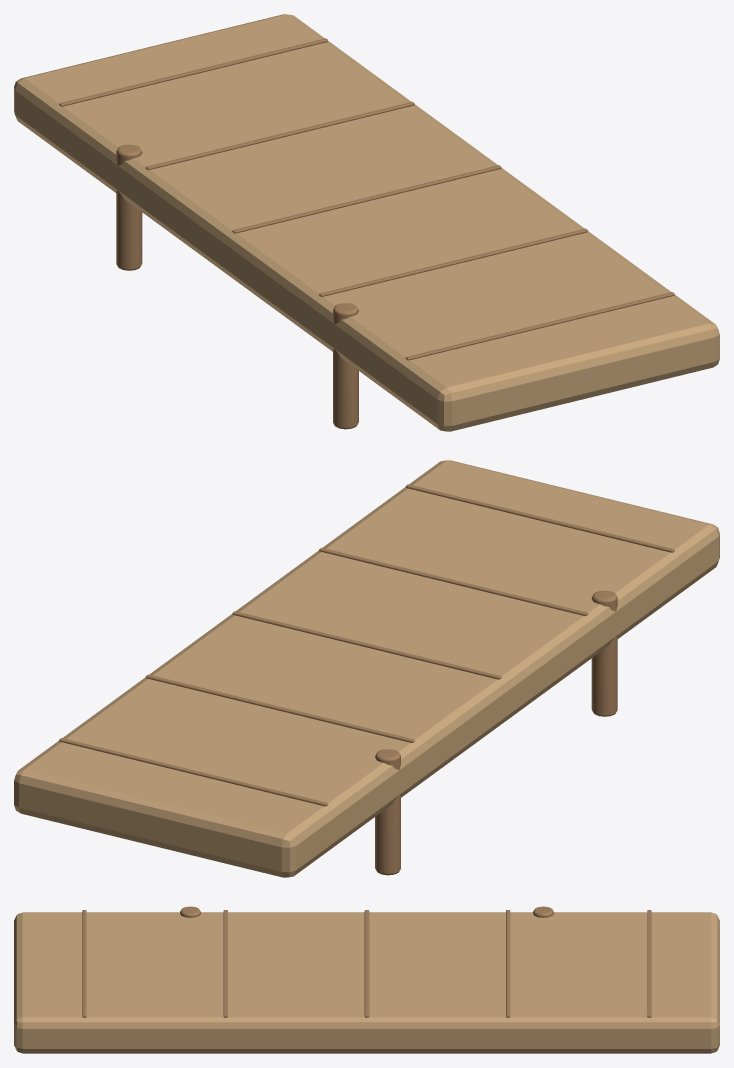
File: boardwalk_straight_lod1_v1.glb
3 views of the same model, one above another, from view 1: azimuth 30°, elevation 25°; view 2: azimuth 150°, elevation 25°; view 3: azimuth 270°, elevation 25° (orthographic). The views are drawn at different scales.
Visible parts, largest first — view 1: LOD1_BOARDWALK_STRAIGHT_Deck, LOD1_BOARDWALK_STRAIGHT_Pile_02, LOD1_BOARDWALK_STRAIGHT_Pile_01, LOD1_BOARDWALK_STRAIGHT_PlankGap_05, LOD1_BOARDWALK_STRAIGHT_PlankGap_02, LOD1_BOARDWALK_STRAIGHT_PlankGap_03, LOD1_BOARDWALK_STRAIGHT_PlankGap_01, LOD1_BOARDWALK_STRAIGHT_PlankGap_04; view 2: LOD1_BOARDWALK_STRAIGHT_Deck, LOD1_BOARDWALK_STRAIGHT_Pile_01, LOD1_BOARDWALK_STRAIGHT_Pile_02, LOD1_BOARDWALK_STRAIGHT_PlankGap_01, LOD1_BOARDWALK_STRAIGHT_PlankGap_03, LOD1_BOARDWALK_STRAIGHT_PlankGap_04, LOD1_BOARDWALK_STRAIGHT_PlankGap_05, LOD1_BOARDWALK_STRAIGHT_PlankGap_02; view 3: LOD1_BOARDWALK_STRAIGHT_Deck, LOD1_BOARDWALK_STRAIGHT_PlankGap_03, LOD1_BOARDWALK_STRAIGHT_PlankGap_01, LOD1_BOARDWALK_STRAIGHT_PlankGap_02, LOD1_BOARDWALK_STRAIGHT_PlankGap_04, LOD1_BOARDWALK_STRAIGHT_PlankGap_05.
Boxes of the visible parts, left/top/right/bottom form: LOD1_BOARDWALK_STRAIGHT_Deck: left=14, top=14, right=719, bottom=431; LOD1_BOARDWALK_STRAIGHT_Pile_02: left=116, top=144, right=142, bottom=270; LOD1_BOARDWALK_STRAIGHT_Pile_01: left=333, top=303, right=358, bottom=429; LOD1_BOARDWALK_STRAIGHT_PlankGap_05: left=59, top=38, right=328, bottom=106; LOD1_BOARDWALK_STRAIGHT_PlankGap_02: left=319, top=228, right=588, bottom=296; LOD1_BOARDWALK_STRAIGHT_PlankGap_03: left=232, top=165, right=501, bottom=233; LOD1_BOARDWALK_STRAIGHT_PlankGap_01: left=405, top=292, right=674, bottom=360; LOD1_BOARDWALK_STRAIGHT_PlankGap_04: left=145, top=102, right=414, bottom=170; LOD1_BOARDWALK_STRAIGHT_Deck: left=14, top=460, right=719, bottom=877; LOD1_BOARDWALK_STRAIGHT_Pile_01: left=591, top=590, right=617, bottom=716; LOD1_BOARDWALK_STRAIGHT_Pile_02: left=375, top=749, right=400, bottom=875; LOD1_BOARDWALK_STRAIGHT_PlankGap_01: left=405, top=484, right=674, bottom=552; LOD1_BOARDWALK_STRAIGHT_PlankGap_03: left=232, top=611, right=501, bottom=679; LOD1_BOARDWALK_STRAIGHT_PlankGap_04: left=145, top=674, right=414, bottom=742; LOD1_BOARDWALK_STRAIGHT_PlankGap_05: left=59, top=738, right=328, bottom=806; LOD1_BOARDWALK_STRAIGHT_PlankGap_02: left=319, top=548, right=588, bottom=616; LOD1_BOARDWALK_STRAIGHT_Deck: left=14, top=912, right=719, bottom=1053; LOD1_BOARDWALK_STRAIGHT_PlankGap_03: left=364, top=910, right=369, bottom=1017; LOD1_BOARDWALK_STRAIGHT_PlankGap_01: left=82, top=910, right=86, bottom=1017; LOD1_BOARDWALK_STRAIGHT_PlankGap_02: left=223, top=910, right=227, bottom=1017; LOD1_BOARDWALK_STRAIGHT_PlankGap_04: left=506, top=910, right=510, bottom=1017; LOD1_BOARDWALK_STRAIGHT_PlankGap_05: left=647, top=910, right=651, bottom=1017.
Size of what is drawn, in the model's own units: 3 by 1.2 by 8.
